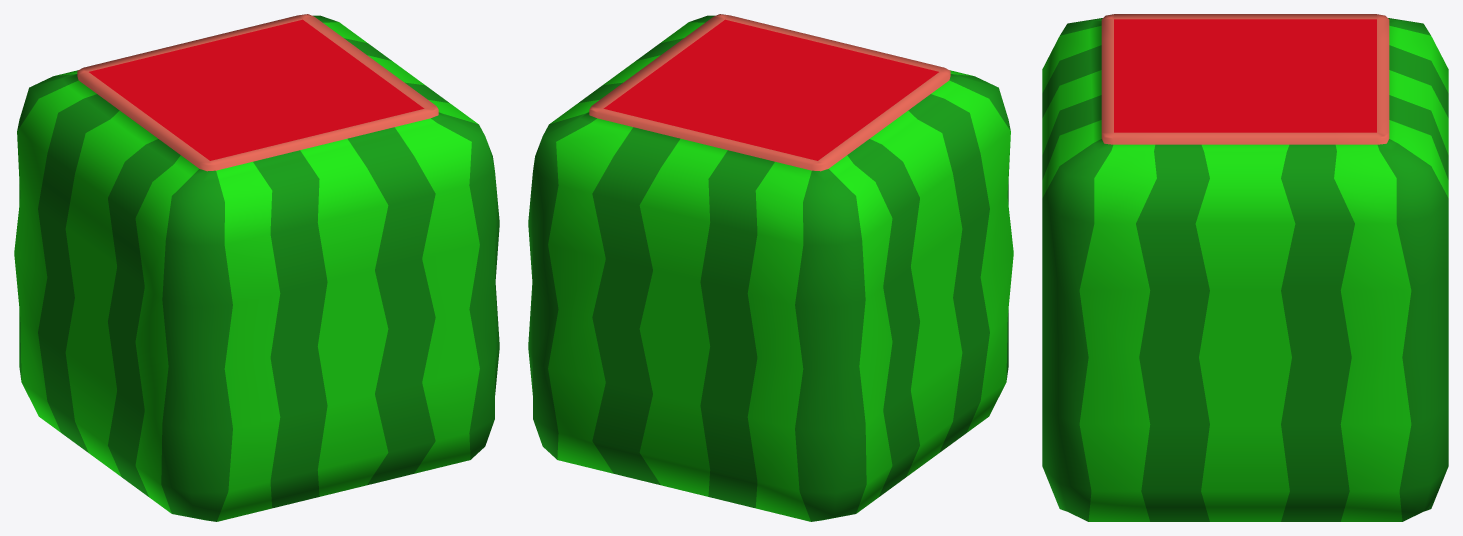
The model's file is Karpuz.fbx.
The picture shows the model from 3 angles, left to right: view 1: azimuth 30°, elevation 25°; view 2: azimuth 150°, elevation 25°; view 3: azimuth 270°, elevation 25°; orthographic projection. The views are drawn at different scales.
Visible parts, largest first — view 1: Karpuzz; view 2: Karpuzz; view 3: Karpuzz.
Boxes of the visible parts, left/top/right/bottom form: Karpuzz: left=14, top=14, right=499, bottom=521; Karpuzz: left=528, top=14, right=1013, bottom=521; Karpuzz: left=1042, top=14, right=1448, bottom=521.
Bounding box in the file's own units: 200 × 203 × 196.
